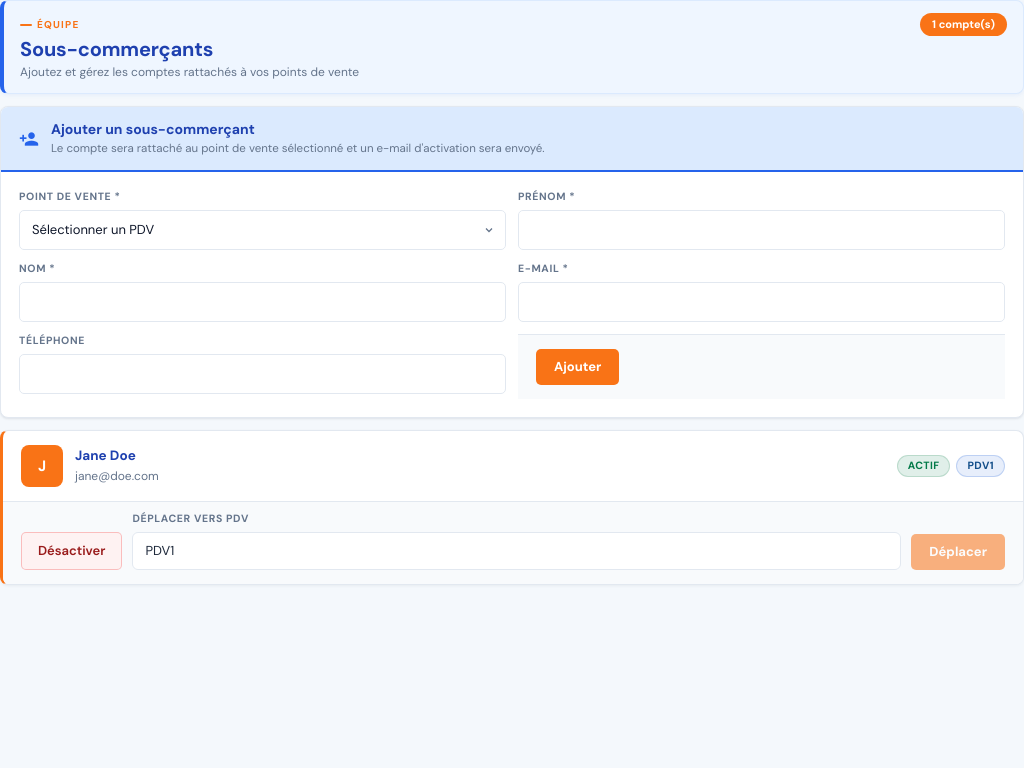
CommercantSubCommercantsPage › deplace un sous-commercant vers un autre PDV disponible
Select "PDV2" in the dropdown labelled "Déplacer vers PDV" at coordinates (517, 551), box [132,532,901,570]
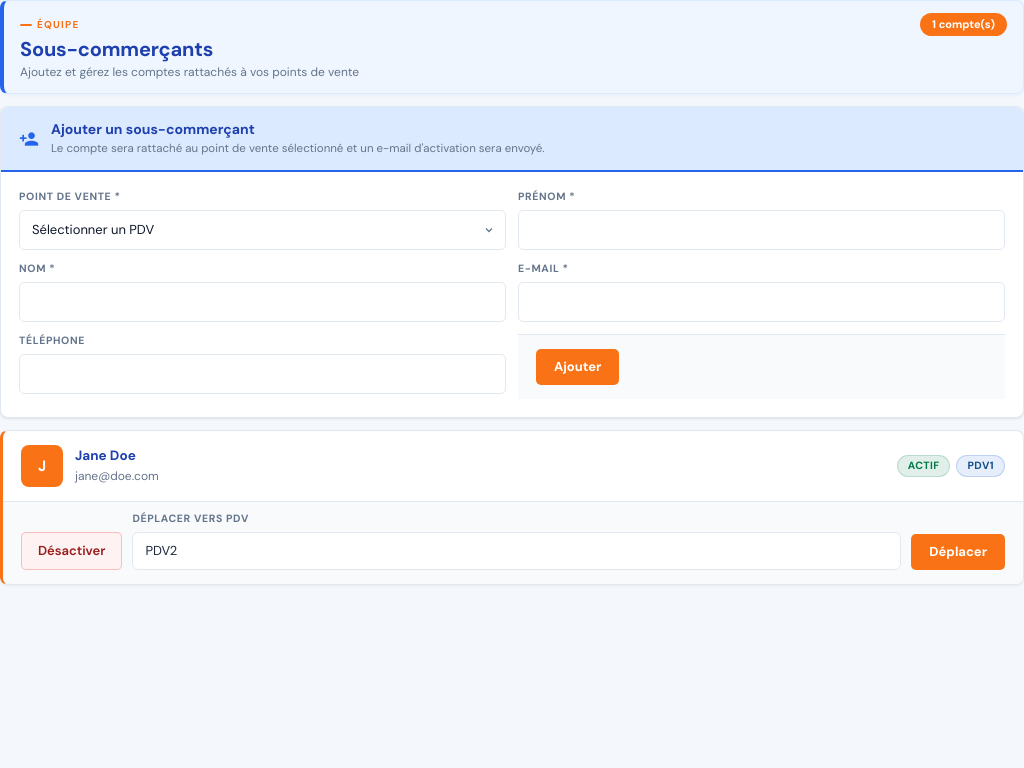
Click the button "Déplacer" at coordinates (958, 552), box [911,534,1005,570]
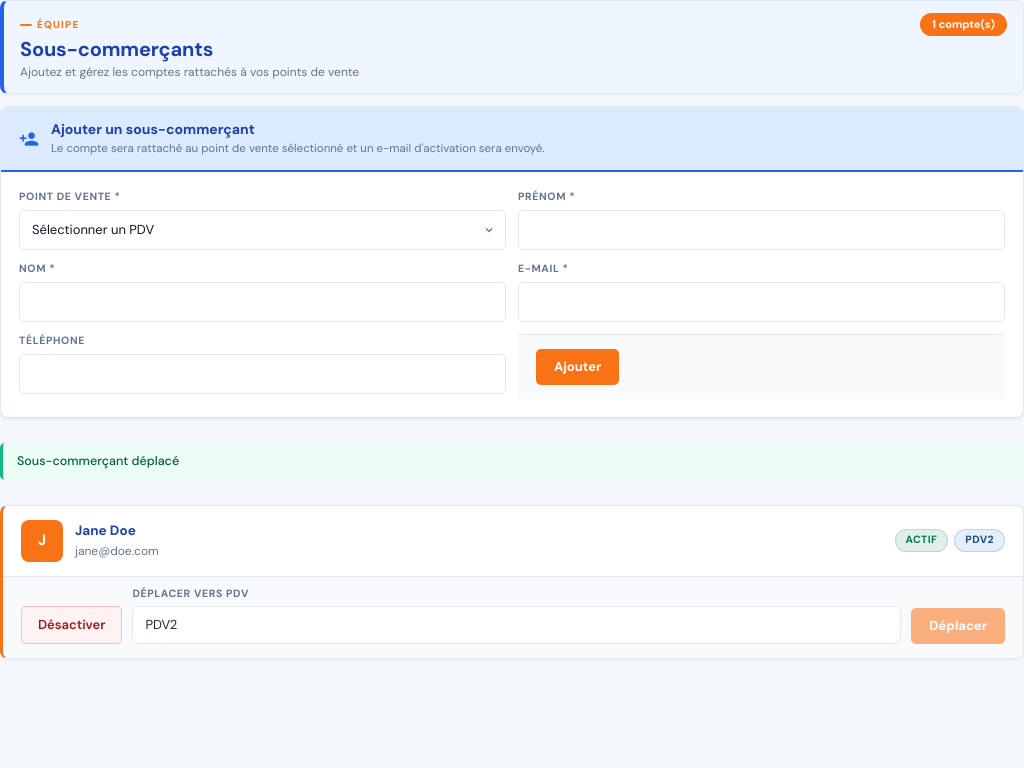
Check: the text "Sous-commerçant déplacé" is shown, box [0,442,1023,480]
